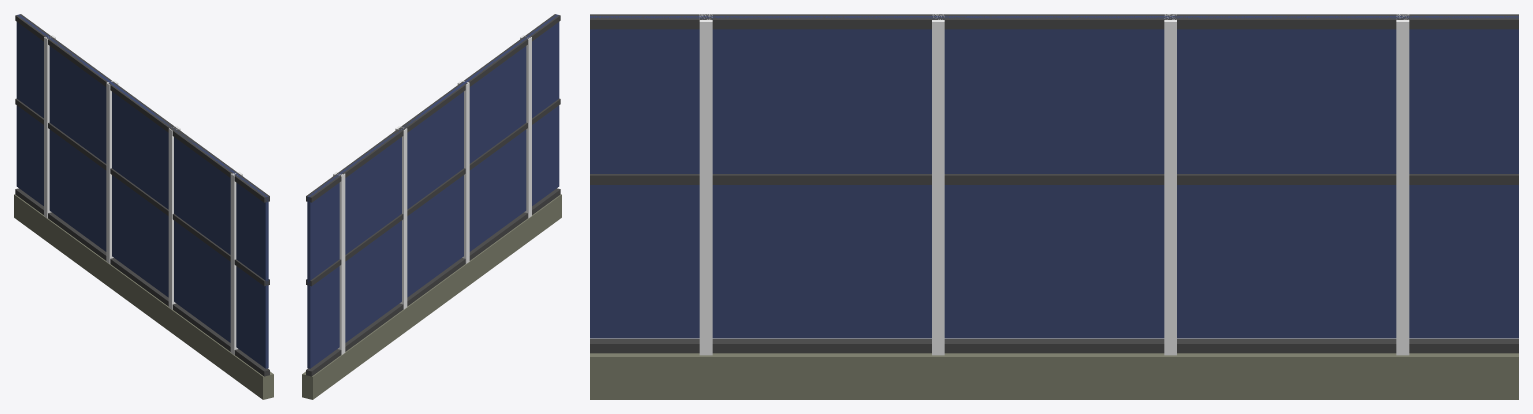
The model's file is platform_wall_close.fbx.
3 views of the same model, side by side, from view 1: azimuth 30°, elevation 25°; view 2: azimuth 150°, elevation 25°; view 3: azimuth 270°, elevation 25° (orthographic). The views are drawn at different scales.
Parts seen in each view (by area): view 1: p502/platform_wall_close; view 2: p502/platform_wall_close; view 3: p502/platform_wall_close.
Part boxes in pixels (x1,y1,x2,y2): p502/platform_wall_close: [14, 14, 273, 399]; p502/platform_wall_close: [302, 14, 561, 399]; p502/platform_wall_close: [590, 14, 1518, 399].
Bounding box in the file's own units: 0.2 × 3.58 × 8.
